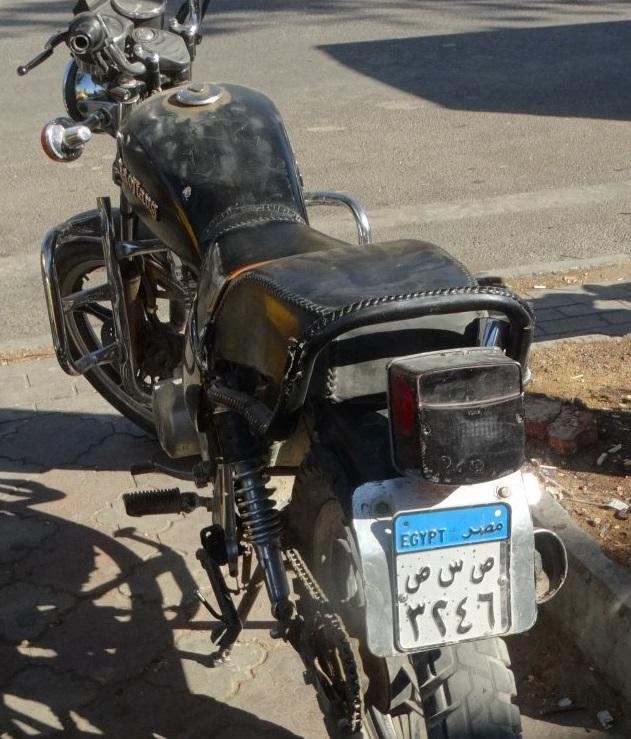License Plate: (387, 514, 513, 650)
